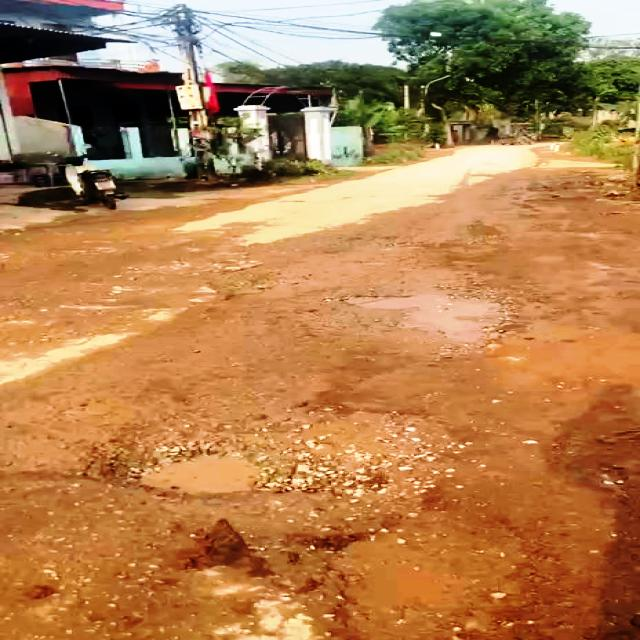pothole: (69, 409, 452, 499), (281, 520, 531, 640), (340, 287, 518, 351)
